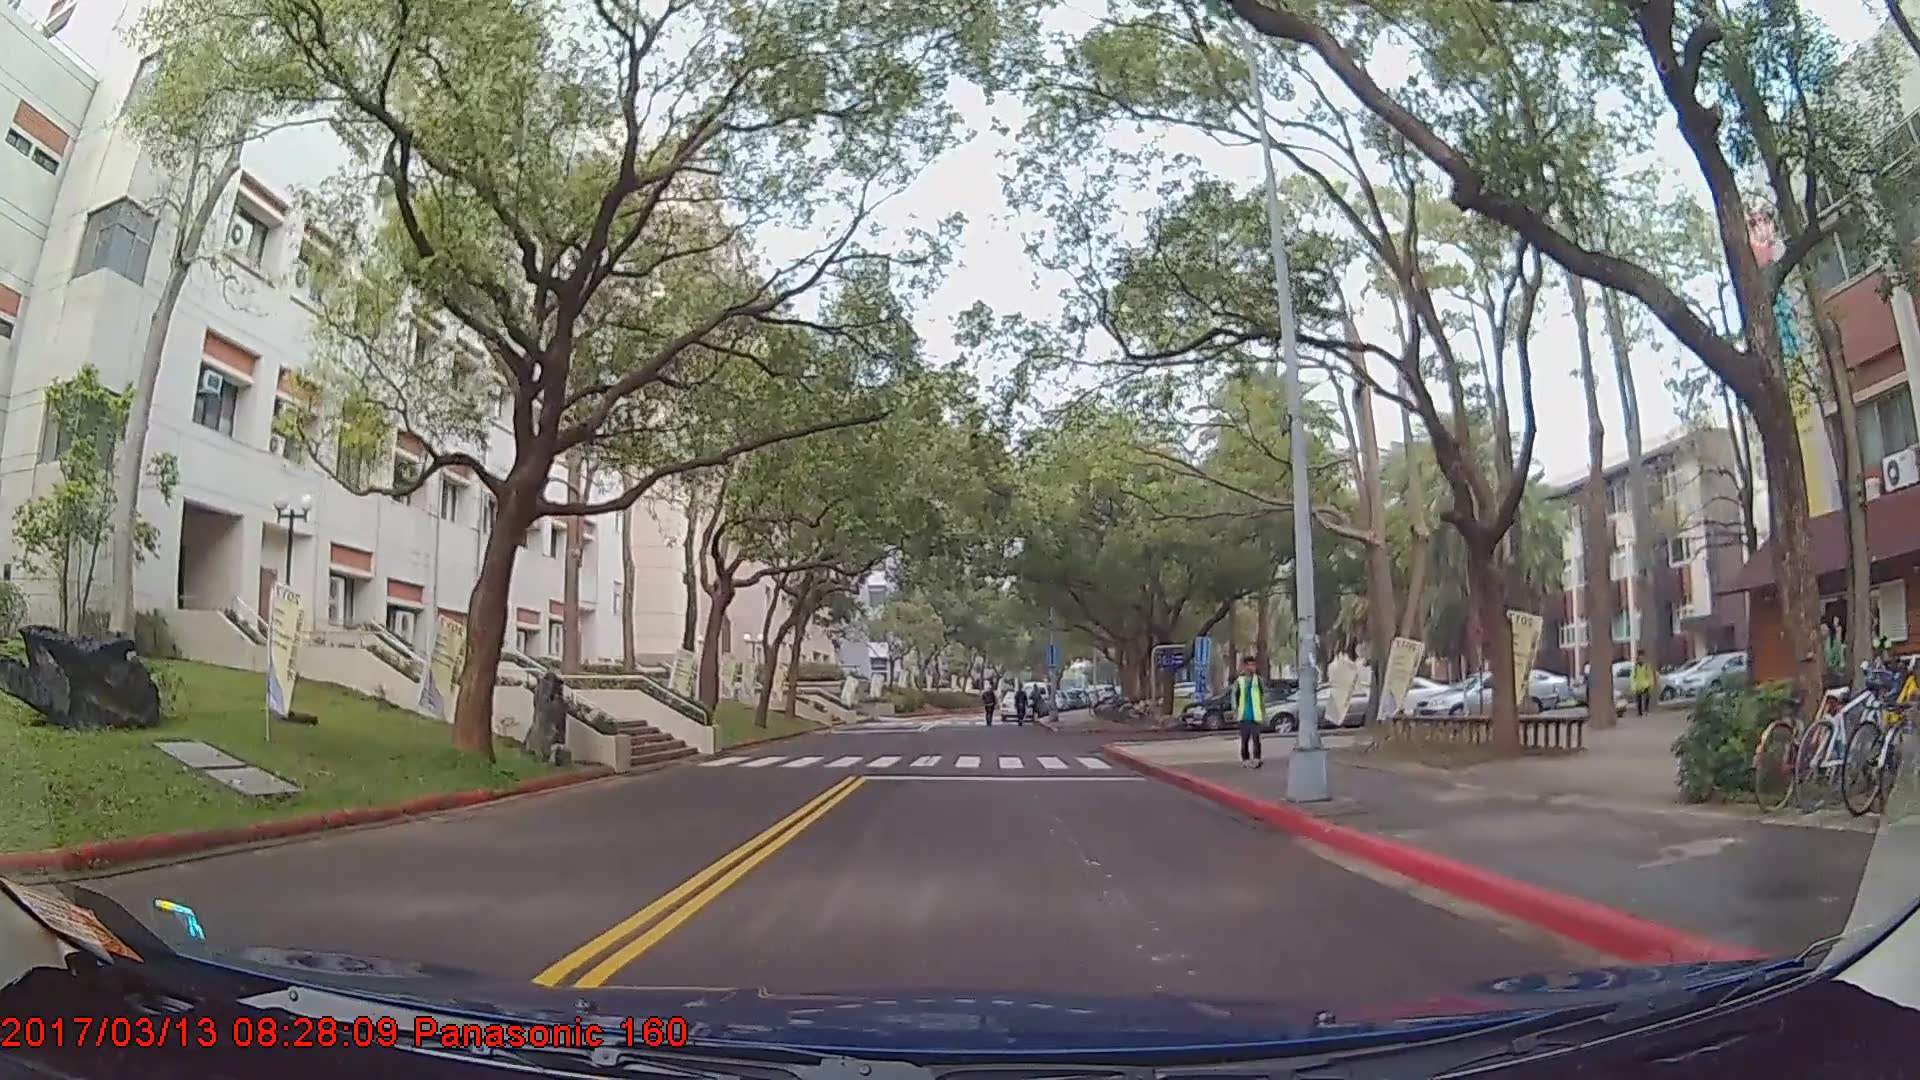pedestrian: (1232, 648, 1272, 760), (1631, 645, 1654, 711), (1014, 683, 1034, 727)
vehicle: (1412, 666, 1557, 725), (1256, 677, 1398, 732), (1183, 674, 1305, 731), (1678, 651, 1767, 696)
